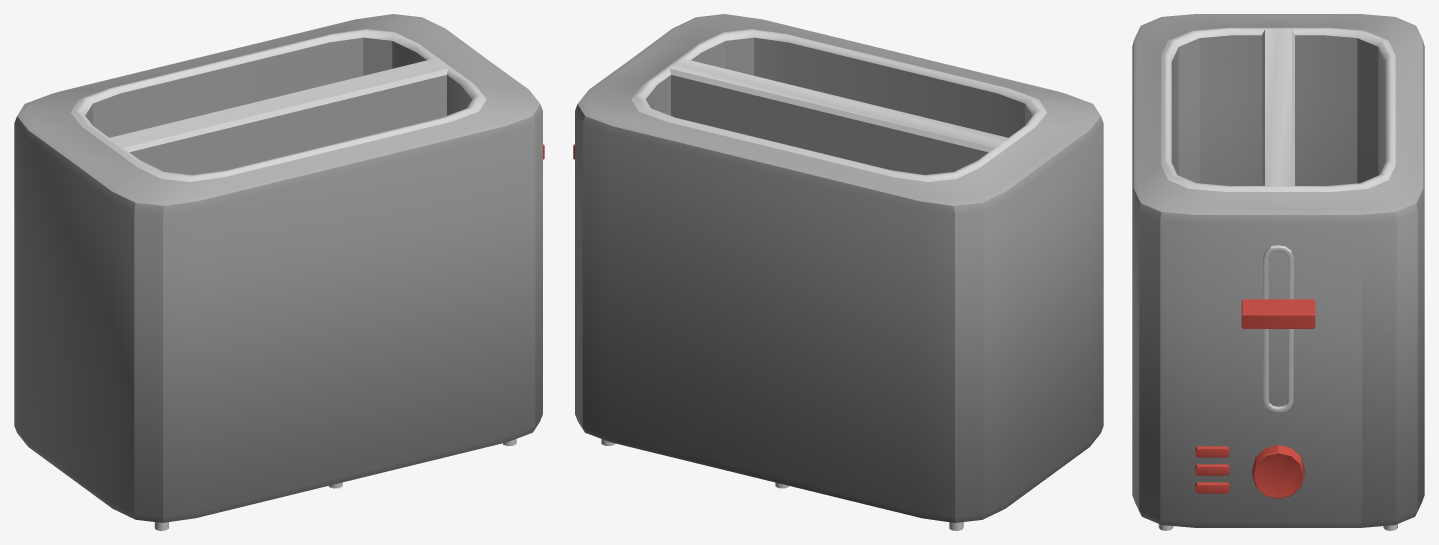
The model's file is Kitchen_Toaster.FBX.
3 views of the same model, side by side, from view 1: azimuth 30°, elevation 25°; view 2: azimuth 150°, elevation 25°; view 3: azimuth 270°, elevation 25° (orthographic).
Visible parts, largest first — view 1: Toaster; view 2: Toaster; view 3: Toaster.
Boxes of the visible parts, left/top/right/bottom form: Toaster: left=14, top=14, right=544, bottom=530; Toaster: left=573, top=14, right=1103, bottom=530; Toaster: left=1132, top=14, right=1424, bottom=530.
Size of the model in its own units: 9.86 by 7 by 5.51.
